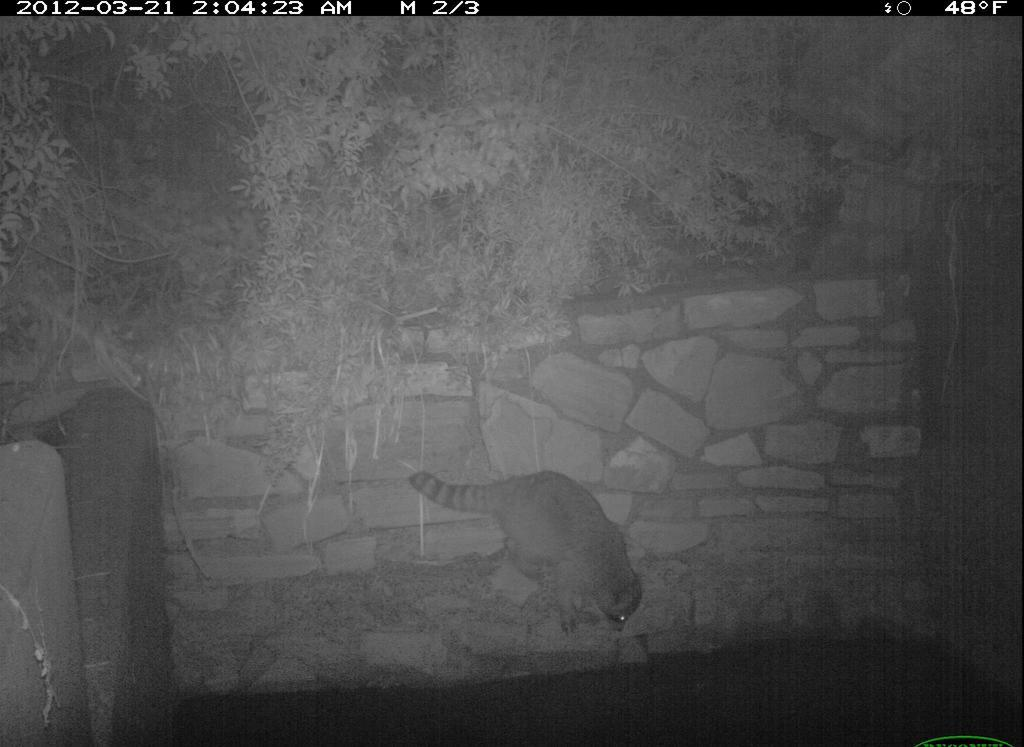raccoon: (399, 461, 657, 652)
